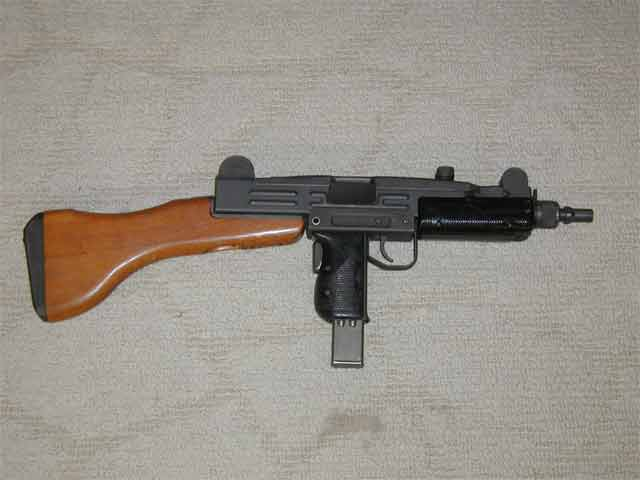rifle: (5, 139, 608, 390)
